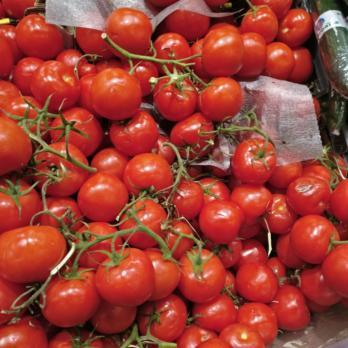Tomato: (1, 0, 305, 348), (301, 155, 348, 303)
